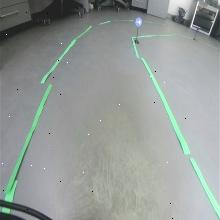right: (136, 16, 142, 27)
